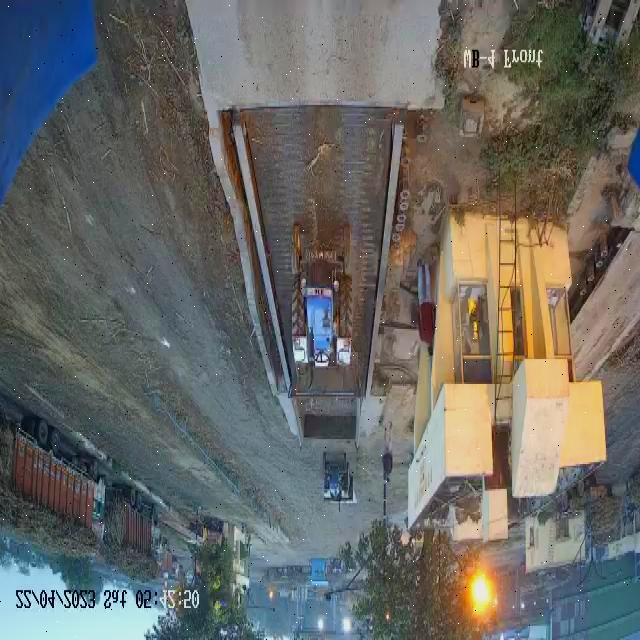Tratores - v5 YOLO V8L 2024-11-13: (288, 210, 357, 379), (320, 451, 351, 515)
